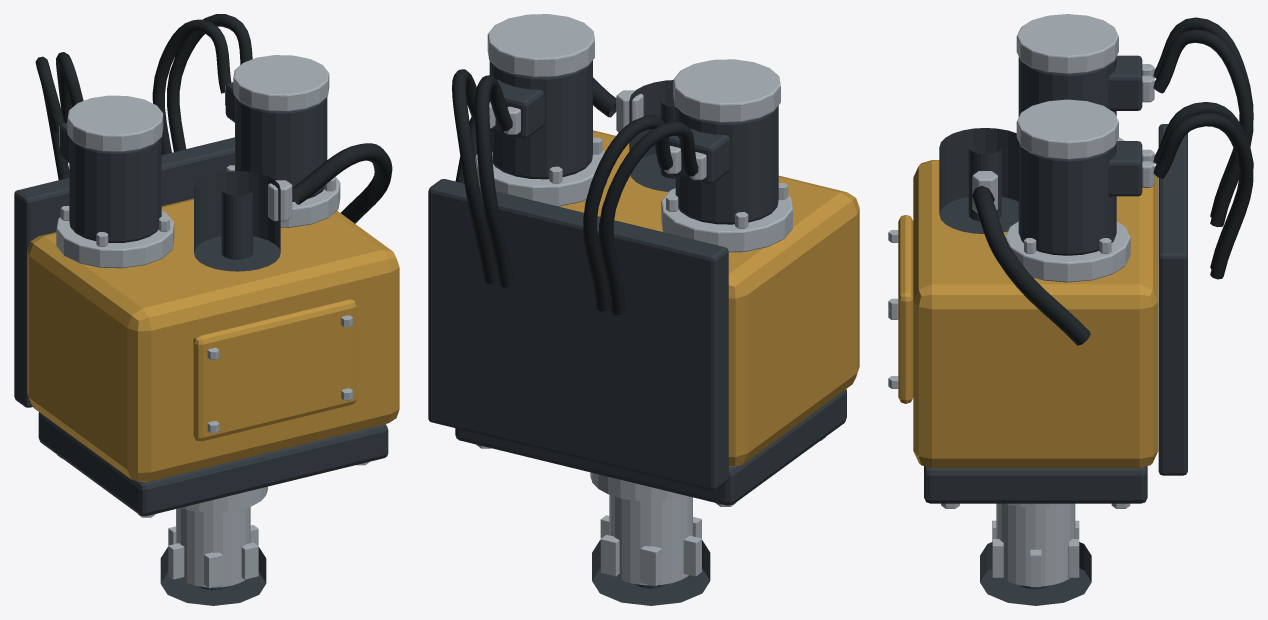
Rendered from compact-rotary-head.glb.
3 views of the same model, side by side, from view 1: azimuth 30°, elevation 25°; view 2: azimuth 150°, elevation 25°; view 3: azimuth 270°, elevation 25° (orthographic). The views are drawn at different scales.
Parts seen in each view (by area): view 1: compact-rotary-head-Plant ochre enamel, compact-rotary-head-Graphite casting, compact-rotary-head-Machined steel, compact-rotary-head-Hydraulic hose, spindle-Machined steel, Chuck collar; view 2: compact-rotary-head-Graphite casting, compact-rotary-head-Plant ochre enamel, compact-rotary-head-Machined steel, compact-rotary-head-Hydraulic hose, spindle-Machined steel, Chuck collar; view 3: compact-rotary-head-Plant ochre enamel, compact-rotary-head-Graphite casting, compact-rotary-head-Machined steel, compact-rotary-head-Hydraulic hose, spindle-Machined steel, Chuck collar.
Boxes of the visible parts, <box> form: compact-rotary-head-Plant ochre enamel: <box>27,198,399,481</box>; compact-rotary-head-Graphite casting: <box>14,82,388,516</box>; compact-rotary-head-Machined steel: <box>56,55,369,517</box>; compact-rotary-head-Hydraulic hose: <box>35,14,392,223</box>; spindle-Machined steel: <box>168,486,267,588</box>; Chuck collar: <box>160,547,266,605</box>; compact-rotary-head-Graphite casting: <box>428,60,846,505</box>; compact-rotary-head-Plant ochre enamel: <box>559,130,859,466</box>; compact-rotary-head-Machined steel: <box>475,14,825,506</box>; compact-rotary-head-Hydraulic hose: <box>452,69,698,315</box>; spindle-Machined steel: <box>590,472,701,586</box>; Chuck collar: <box>592,540,710,605</box>; compact-rotary-head-Plant ochre enamel: <box>898,160,1158,468</box>; compact-rotary-head-Graphite casting: <box>924,55,1187,503</box>; compact-rotary-head-Machined steel: <box>888,14,1154,508</box>; compact-rotary-head-Hydraulic hose: <box>972,17,1253,345</box>; spindle-Machined steel: <box>992,503,1079,587</box>; Chuck collar: <box>980,542,1091,605</box>.
Bounding box in the file's own units: 0.6939 × 1.07 × 0.6856.
